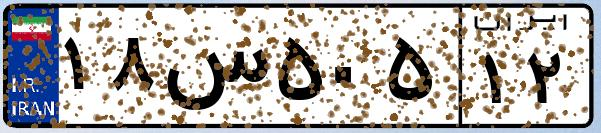0: (330, 28, 385, 110)
1: (57, 26, 110, 100), (475, 38, 525, 113)
2: (525, 38, 570, 115)
5: (270, 28, 330, 110), (385, 28, 445, 110)
8: (110, 28, 158, 98)
س: (158, 20, 270, 120)
